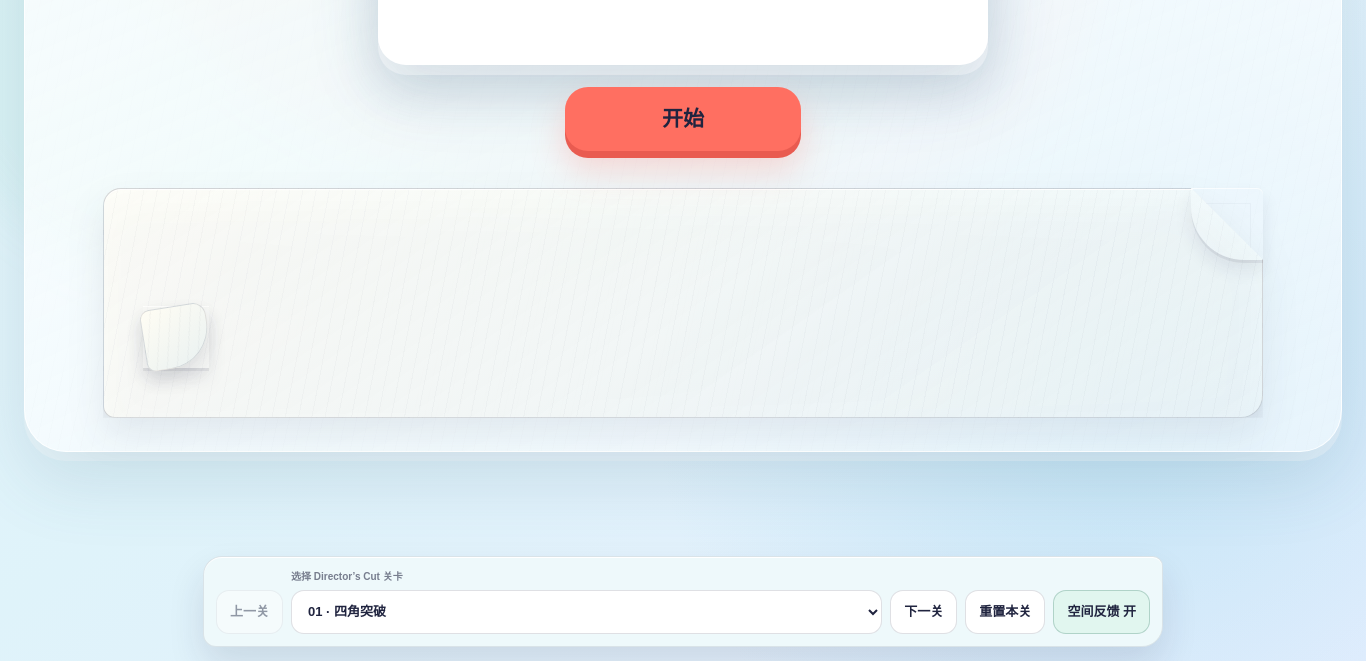
Test: Director's Cut 36-level isolated campaign › exposes all 36 frozen Director's Cut levels without touching Legacy progress
(page scrolled)
Select "36 · 静默星座" in the dropdown labelled "选择 Director’s Cut 关卡" at {"x": 587, "y": 612}, box [291,590,882,634]
(page scrolled)
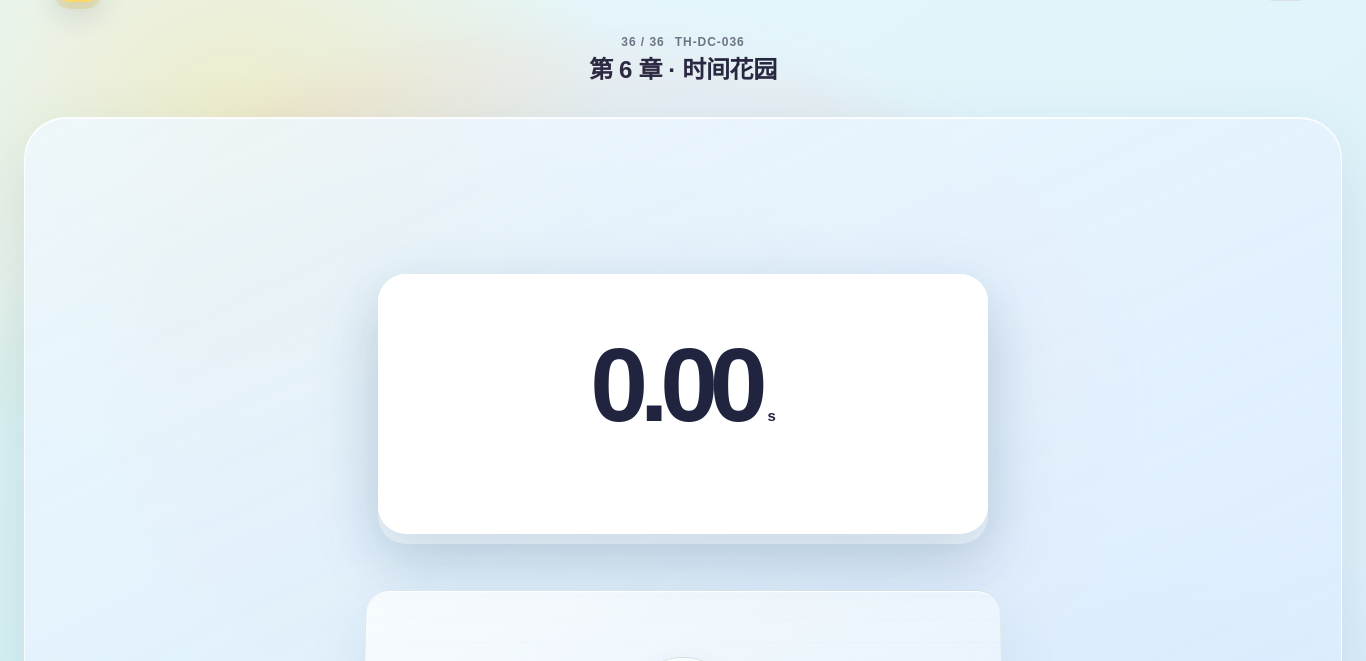
Now the text "36 / 36" is shown, box [621,36,665,48]
Now the text "TH-DC-036" is shown, box [675,36,745,48]
